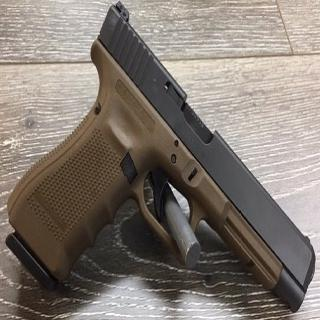gun: (11, 10, 312, 308)
